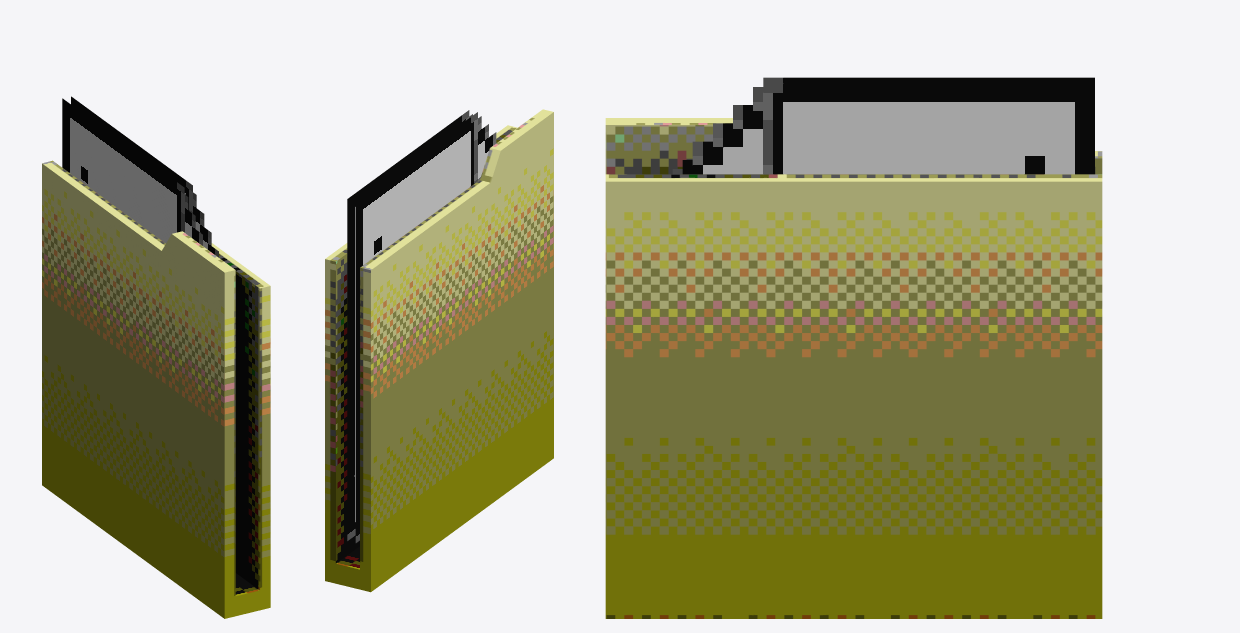
Rendered from dossier 1.fbx.
3 renders of one model, left to right at view 1: azimuth 30°, elevation 25°; view 2: azimuth 150°, elevation 25°; view 3: azimuth 270°, elevation 25°, orthographic. The views are drawn at different scales.
Visible parts, largest first — view 1: Cube.003; view 2: Cube.003; view 3: Cube.003.
Boxes of the visible parts, <box> form: Cube.003: <box>42,96,270,618</box>; Cube.003: <box>325,109,553,592</box>; Cube.003: <box>605,77,1102,618</box>.
Bounding box in the file's own units: 5.41 × 48.46 × 48.22.
